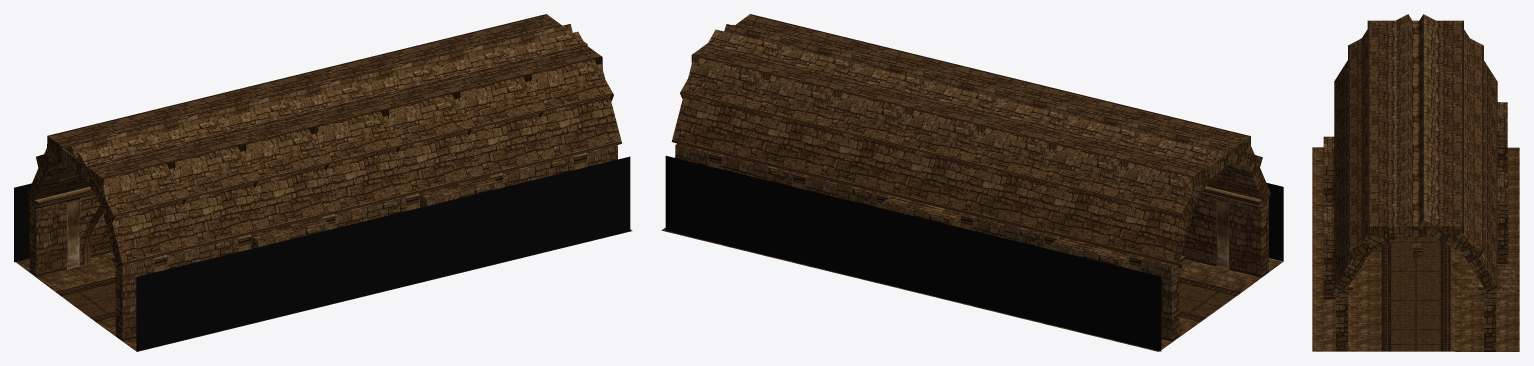
Rendered from TunnelTemplateTest.fbx.
The picture shows the model from 3 angles, left to right: view 1: azimuth 30°, elevation 25°; view 2: azimuth 150°, elevation 25°; view 3: azimuth 270°, elevation 25°; orthographic projection. The views are drawn at different scales.
Visible parts, largest first — view 1: Plane.022, Plane.057, Plane.055, Plane.060, Plane.059, Plane.058, Plane.056, Plane.035, Floor, Plane.061, Plane.051, Plane.066 (+17 smaller); view 2: Plane.068, Plane.061, Plane.067, Plane.064, Plane.062, Plane.063, Plane.066, Plane.065, Floor, Plane.057, Plane.045, Plane.030 (+16 smaller); view 3: Floor, Plane.064, Plane.060, Plane.067, Plane.061, Plane.066, Plane.063, Plane.062, Plane.065, Plane.055, Plane.059, Plane.058 (+9 smaller).
Part boxes in pixels (box(x1,y1,x2,y2)): Plane.022: box(136, 156, 630, 351); Plane.057: box(62, 136, 193, 267); Plane.055: box(221, 101, 336, 231); Plane.060: box(507, 31, 621, 160); Plane.059: box(436, 49, 550, 178); Plane.058: box(364, 66, 479, 195); Plane.056: box(150, 118, 264, 247); Plane.035: box(293, 84, 407, 212); Floor: box(16, 229, 632, 351); Plane.061: box(28, 118, 159, 204); Plane.051: box(29, 198, 66, 276); Plane.066: box(333, 48, 445, 96); Plane.068: box(665, 156, 1161, 351); Plane.061: box(1101, 129, 1233, 265); Plane.067: box(886, 77, 1018, 211); Plane.064: box(671, 24, 803, 159); Plane.062: box(1029, 112, 1161, 247); Plane.063: box(958, 94, 1089, 229); Plane.066: box(814, 59, 946, 194); Plane.065: box(743, 42, 875, 176); Floor: box(661, 227, 1282, 351); Plane.057: box(1153, 119, 1270, 204); Plane.045: box(1229, 198, 1268, 277); Plane.030: box(1182, 193, 1216, 266); Floor: box(1312, 147, 1519, 351); Plane.064: box(1394, 190, 1497, 292); Plane.060: box(1334, 190, 1432, 292); Plane.067: box(1394, 102, 1497, 198); Plane.061: box(1394, 14, 1497, 110); Plane.066: box(1394, 132, 1497, 228); Plane.063: box(1394, 73, 1497, 169); Plane.062: box(1394, 43, 1497, 139); Plane.065: box(1394, 161, 1497, 257); Plane.055: box(1334, 73, 1411, 168); Plane.059: box(1334, 161, 1411, 256); Plane.058: box(1334, 132, 1411, 227).
Bounding box in the file's own units: 17519 × 5296 × 7446.
